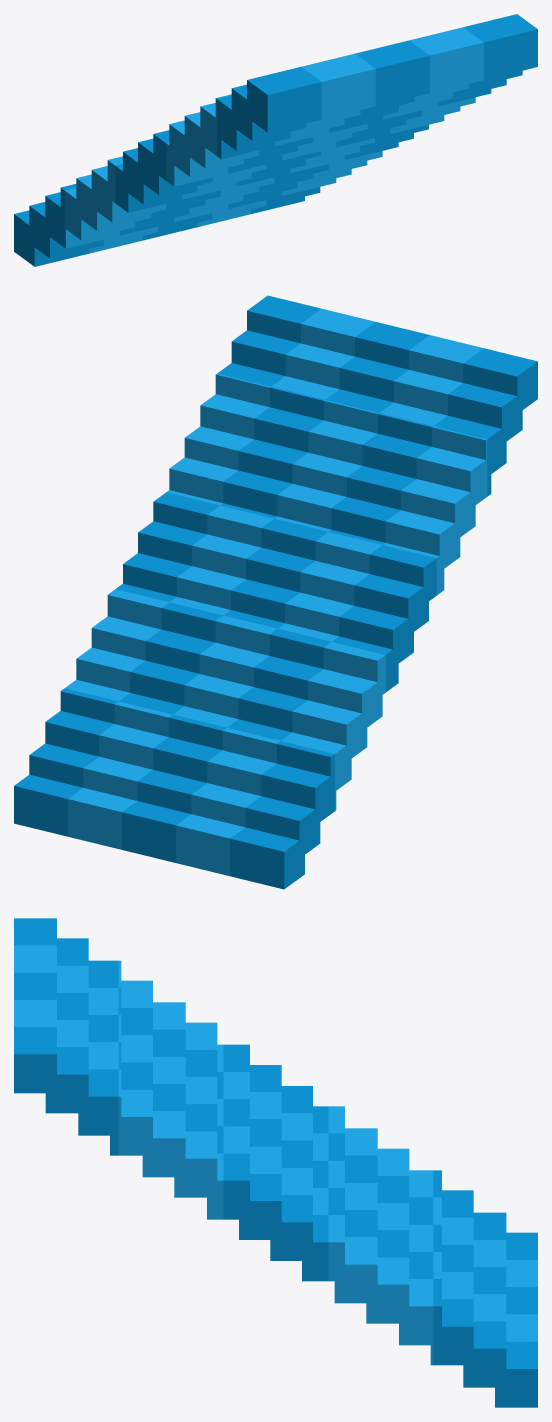
The model's file is stairs448.FBX.
3 views of the same model, one above another, from view 1: azimuth 30°, elevation 25°; view 2: azimuth 150°, elevation 25°; view 3: azimuth 270°, elevation 25° (orthographic). The views are drawn at different scales.
Visible parts, largest first — view 1: Box01; view 2: Box01; view 3: Box01.
Boxes of the visible parts, bbox=[...] form: Box01: bbox=[14, 14, 537, 266]; Box01: bbox=[14, 295, 537, 889]; Box01: bbox=[14, 918, 537, 1407].
Size of the model in its own units: 150 by 244 by 182.
